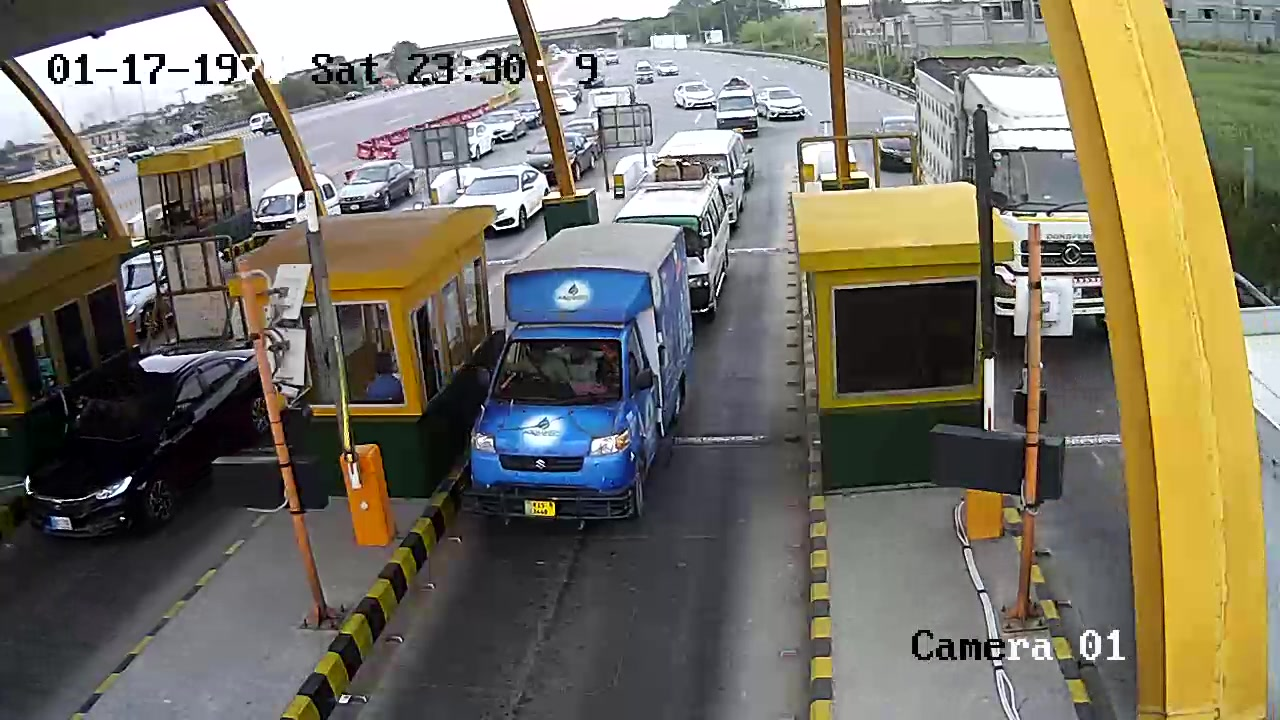F2: (460, 222, 697, 538)
